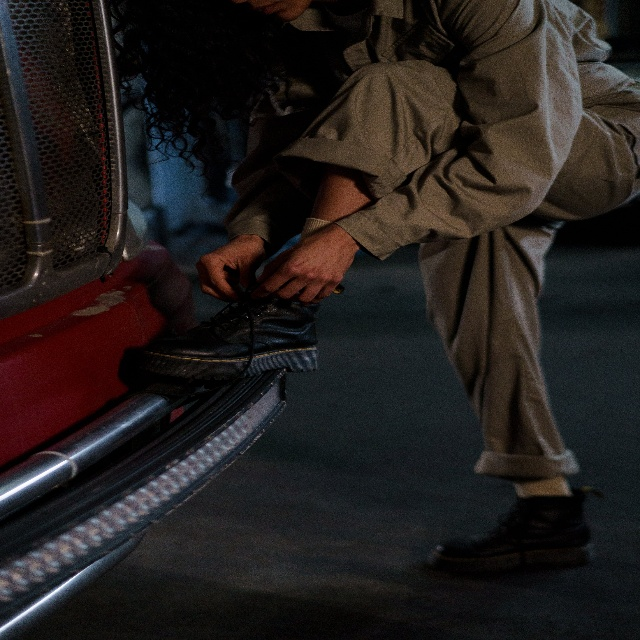Sin_guantes: (252, 221, 356, 300), (194, 230, 264, 302)
